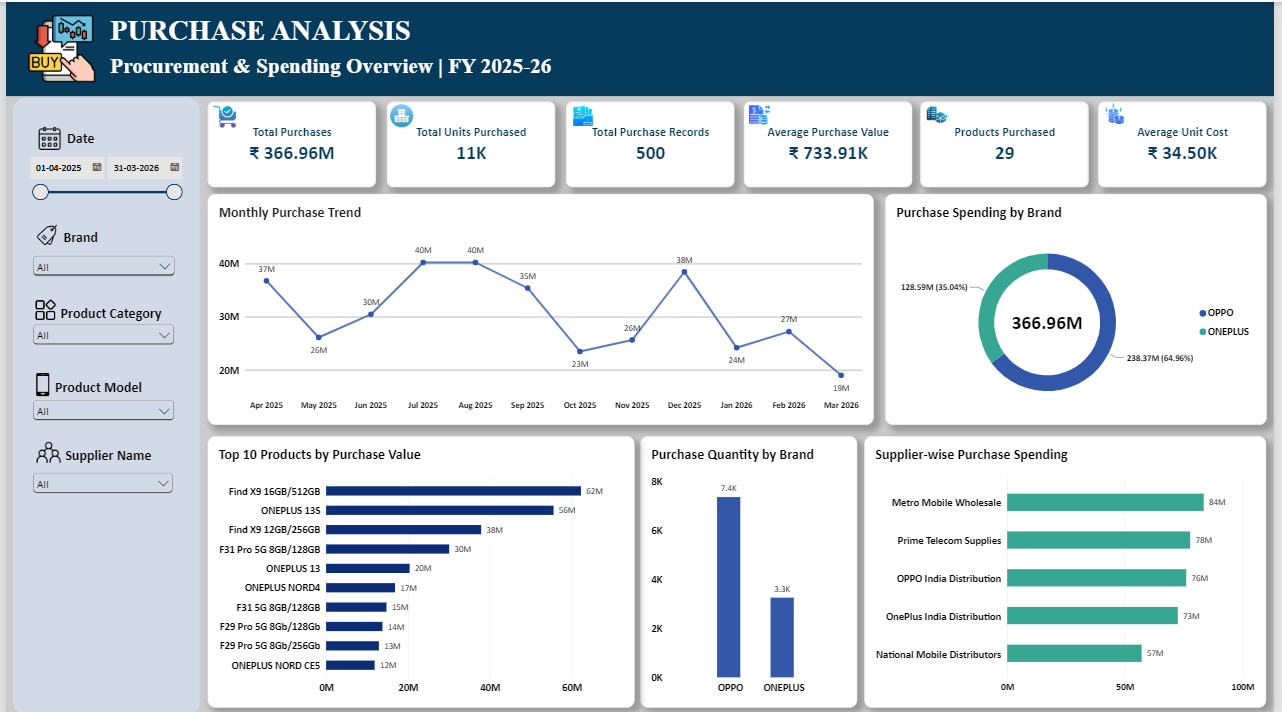

The dashboard page shown, as its layout file describes it:
{"tool":"powerbi","page":{"name":"Purchase Analysis","canvas":[1920,1080],"ordinal":1},"visuals":[{"type":"shape","box":[9.9,143.7,283.1,936.6],"z":0},{"type":"actionButton","box":[0,0,100,40],"z":1000},{"type":"cardVisual","fields":{"Data":["Customers.Total Purchases"]},"box":[305,150,255,130],"z":2000},{"type":"cardVisual","fields":{"Data":["Customers.Total Units Purchased"]},"box":[577.5,150,255,130],"z":3000},{"type":"cardVisual","fields":{"Data":["Customers.Total Purchase Records"]},"box":[848.8,150,255,130],"z":4000},{"type":"cardVisual","fields":{"Data":["Customers.Average Purchase Value"]},"box":[1116.2,150,255,130],"z":5000},{"type":"cardVisual","fields":{"Data":["Customers.Products Purchased"]},"box":[1383.8,150,255,130],"z":6000},{"type":"slicer","title":"Date","fields":{"Values":["DateTable.Date"]},"box":[8,226,282,94],"z":7000},{"type":"slicer","title":"Brand","fields":{"Values":["Products.Brand"]},"box":[36.9,378.4,224,40],"z":8000},{"type":"image","box":[38.8,335,47.7,35.1],"z":9000},{"type":"textbox","box":[85.9,342.4,62.6,27.3],"z":10000},{"type":"image","box":[37.5,186.2,56,40],"z":11000},{"type":"textbox","box":[82.5,193.8,65,32.5],"z":12000},{"type":"slicer","title":"Brand","fields":{"Values":["Products.Category"]},"box":[35.1,483.8,223.8,47.6],"z":13000},{"type":"image","box":[35.1,449.5,46.8,34.2],"z":14000},{"type":"image","box":[33.3,561.3,44.1,35.1],"z":15000},{"type":"image","box":[42.5,663.8,44.1,36.9],"z":16000},{"type":"textbox","box":[82,456.8,164,27],"z":17000},{"type":"slicer","title":"Brand","fields":{"Values":["Products.Product_Model"]},"box":[35.1,598.2,223.4,42.3],"z":18000},{"type":"textbox","box":[73.9,569.4,136,27],"z":19000},{"type":"slicer","title":"Brand","fields":{"Values":["Purchases.Supplier_Name"]},"box":[36.9,707.2,221.6,42.3],"z":20000},{"type":"textbox","box":[85.7,674.3,147.1,32.9],"z":21000},{"type":"image","box":[305,156,51.2,33.8],"z":22000},{"type":"image","box":[578,154,40,35],"z":23000},{"type":"image","box":[858,154,30,36],"z":24000},{"type":"shape","box":[0,0,1920,142.5],"z":25000},{"type":"textbox","box":[8,20,1260,112],"z":26000},{"type":"image","box":[25,20,117.5,102.5],"z":27000},{"type":"cardVisual","fields":{"Data":["Customers.Average Unit Cost"]},"box":[1652.5,150,255,130],"z":28000},{"type":"lineChart","title":"Monthly Purchase Trend","fields":{"Category":["DateTable.FY Month"],"Y":["Customers.Total Purchases"]},"box":[305,290,1008.3,350],"z":29000},{"type":"donutChart","title":"Purchase Spending by Brand","fields":{"Y":["Customers.Total Purchases"],"Category":["Products.Brand"]},"box":[1330,290,577.5,350],"z":30000},{"type":"clusteredColumnChart","title":"Purchase Quantity by Brand","fields":{"Category":["Products.Brand"],"Y":["Customers.Total Units Purchased"]},"box":[960,656.7,328.3,411.7],"z":31000},{"type":"clusteredBarChart","title":"Top 10 Products by Purchase Value","fields":{"Category":["Products.Product_Model"],"Y":["Customers.Total Purchases"]},"box":[305,656.7,646.7,411.7],"z":32000},{"type":"clusteredBarChart","title":"Supplier-wise Purchase Spending","fields":{"Category":["Purchases.Supplier_Name"],"Y":["Customers.Total Purchases"]},"box":[1300,656.7,608.3,411.7],"z":33000},{"type":"image","box":[1124,154,35,32],"z":34000},{"type":"image","box":[1392,152,35,38],"z":35000},{"type":"image","box":[1660,153,37,33],"z":36000}]}

Visuals, with their boxes in screenshot pixels (x1, y1, x2, y2), scaled from the page's 1920x1080 canvas onto the 1282x712 screenshot:
shape: <region>7, 95, 196, 711</region>
actionButton: <region>0, 0, 67, 26</region>
cardVisual - Customers.Total Purchases: <region>204, 99, 374, 185</region>
cardVisual - Customers.Total Units Purchased: <region>386, 99, 556, 185</region>
cardVisual - Customers.Total Purchase Records: <region>567, 99, 737, 185</region>
cardVisual - Customers.Average Purchase Value: <region>745, 99, 916, 185</region>
cardVisual - Customers.Products Purchased: <region>924, 99, 1094, 185</region>
"Date" slicer: <region>5, 149, 194, 211</region>
"Brand" slicer: <region>25, 249, 174, 276</region>
image: <region>26, 221, 58, 244</region>
textbox: <region>57, 226, 99, 244</region>
image: <region>25, 123, 62, 149</region>
textbox: <region>55, 128, 98, 149</region>
"Brand" slicer: <region>23, 319, 173, 350</region>
image: <region>23, 296, 55, 319</region>
image: <region>22, 370, 52, 393</region>
image: <region>28, 438, 58, 462</region>
textbox: <region>55, 301, 164, 319</region>
"Brand" slicer: <region>23, 394, 173, 422</region>
textbox: <region>49, 375, 140, 393</region>
"Brand" slicer: <region>25, 466, 173, 494</region>
textbox: <region>57, 445, 155, 466</region>
image: <region>204, 103, 238, 125</region>
image: <region>386, 102, 413, 125</region>
image: <region>573, 102, 593, 125</region>
shape: <region>0, 0, 1281, 94</region>
textbox: <region>5, 13, 847, 87</region>
image: <region>17, 13, 95, 81</region>
cardVisual - Customers.Average Unit Cost: <region>1103, 99, 1274, 185</region>
"Monthly Purchase Trend" lineChart: <region>204, 191, 877, 422</region>
"Purchase Spending by Brand" donutChart: <region>888, 191, 1274, 422</region>
"Purchase Quantity by Brand" clusteredColumnChart: <region>641, 433, 860, 704</region>
"Top 10 Products by Purchase Value" clusteredBarChart: <region>204, 433, 635, 704</region>
"Supplier-wise Purchase Spending" clusteredBarChart: <region>868, 433, 1274, 704</region>
image: <region>751, 102, 774, 123</region>
image: <region>929, 100, 953, 125</region>
image: <region>1108, 101, 1133, 123</region>
